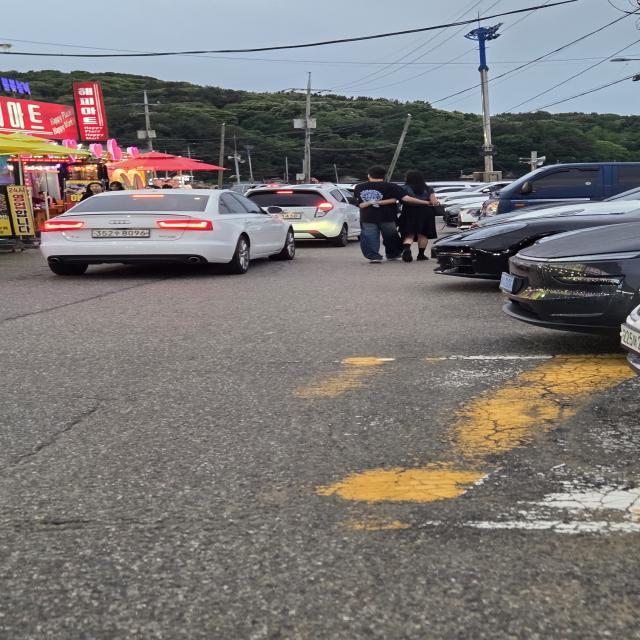car: (29, 181, 316, 283), (479, 215, 640, 345), (406, 205, 640, 282), (231, 175, 384, 252)
